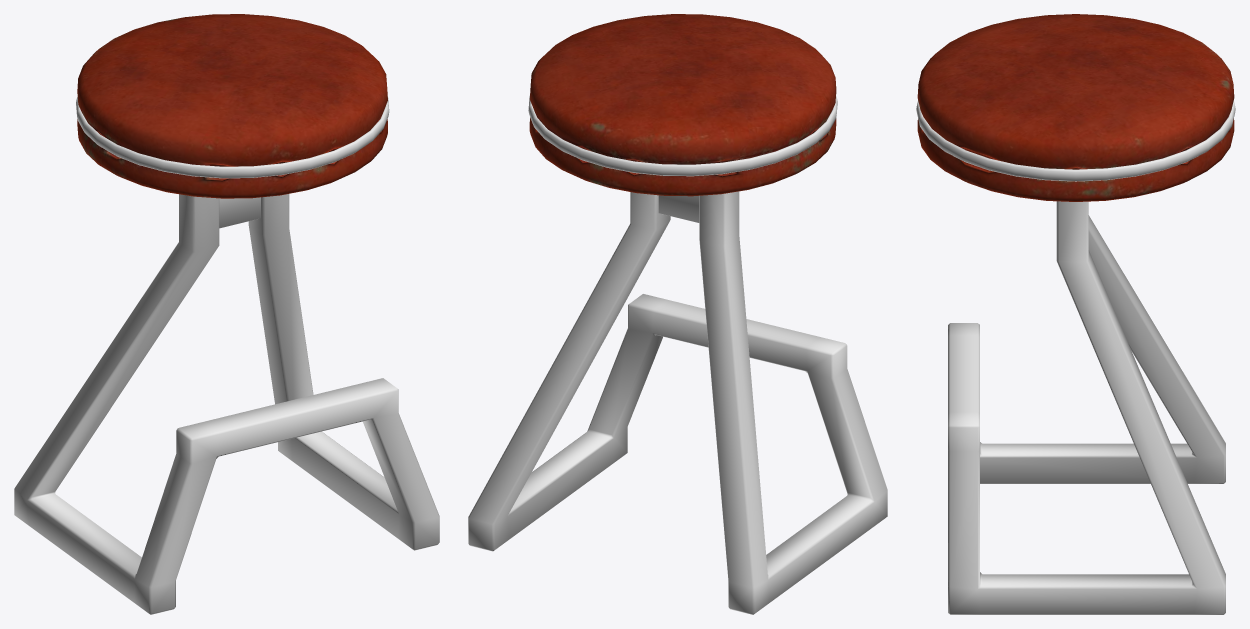
The model's file is BarStool.fbx.
3 renders of one model, left to right at view 1: azimuth 30°, elevation 25°; view 2: azimuth 150°, elevation 25°; view 3: azimuth 270°, elevation 25°, orthographic. The views are drawn at different scales.
Parts seen in each view (by area): view 1: BarStool.004; view 2: BarStool.004; view 3: BarStool.004.
Boxes of the visible parts, x1,y1,x2,y2 form: BarStool.004: (14, 14, 439, 614); BarStool.004: (468, 14, 887, 614); BarStool.004: (916, 14, 1235, 614).
Size of the model in its own units: 47.34 by 73.14 by 44.17.
Materials: 2 (1 with a texture image).
